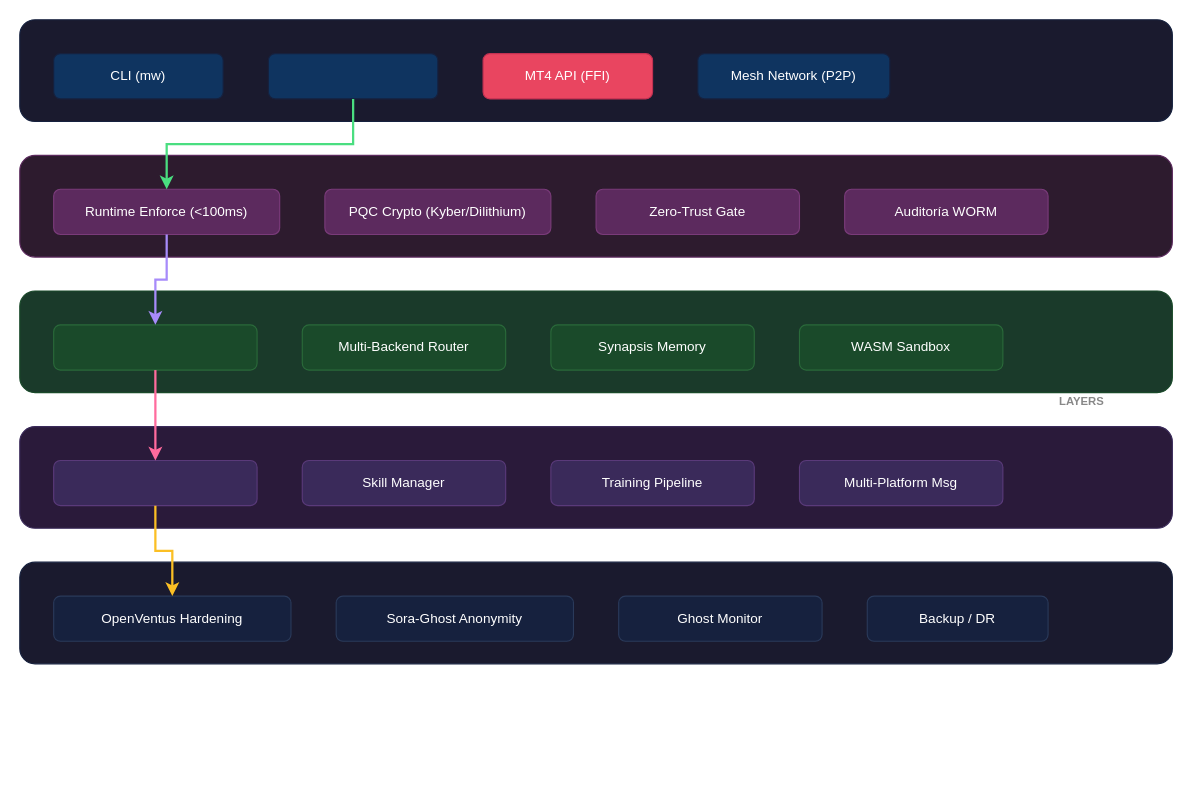
The diagram is 1192 pixels wide and 788 high, and some of its shapes have lost their labels. Here are the shapes that lost their labels. From the top down, the box of each, then its label:
(267, 53, 438, 99): TUI (ratatui)
(19, 19, 1172, 121): INTERFAZ EXTERNA
(19, 154, 1172, 257): CAPA DE SEGURIDAD — THOTH
(53, 324, 257, 370): JEPA Engine
(19, 290, 1172, 393): CAPA DE CORE — MATERIA
(53, 459, 257, 506): Agent Loop
(19, 425, 1172, 528): CAPA DE APRENDIZAJE — HERMES
(19, 561, 1172, 664): CAPA DE INFRAESTRUCTURA
